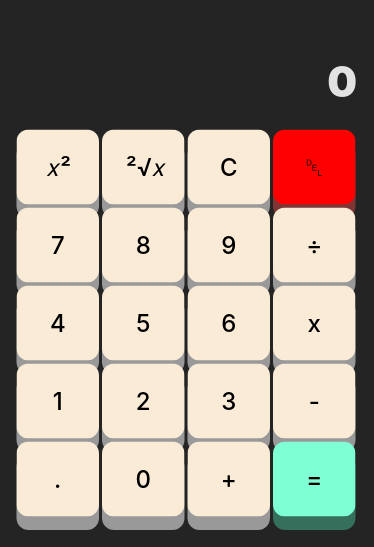
Scenario: Keyboard test › should handle division
The width and height of the screenshot is (374, 547).
Click the button "5".
click(143, 323)  # box [102,286,184,360]
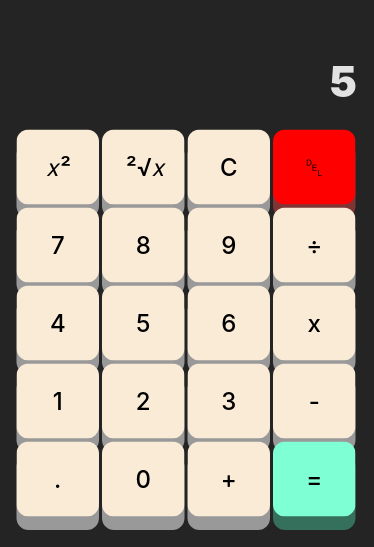
Click the button "÷".
click(314, 245)  # box [273,208,356,282]
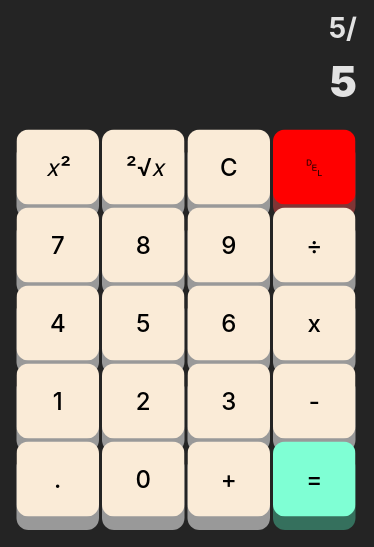
Click the button "2".
click(143, 401)  # box [102,364,184,438]
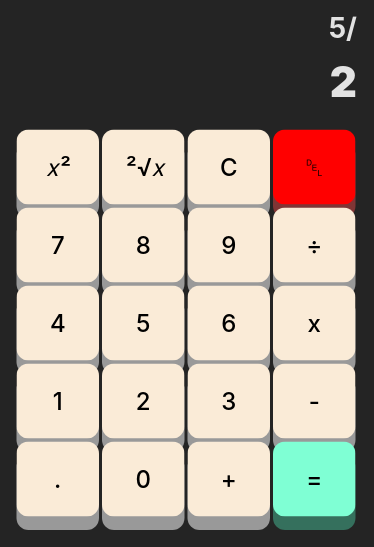
Click the button "=".
click(314, 479)  # box [273,442,356,516]
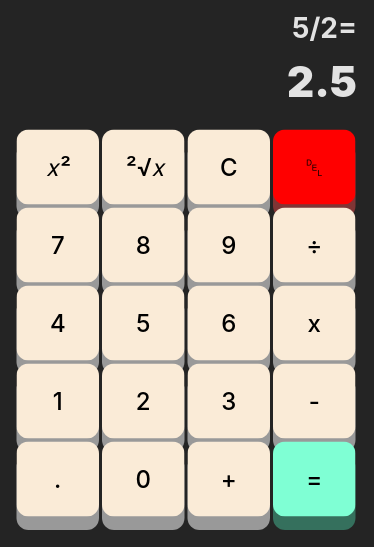
Check: the text with test id "mainDisplayVal" reads "2.5", box [287,56,357,107]
